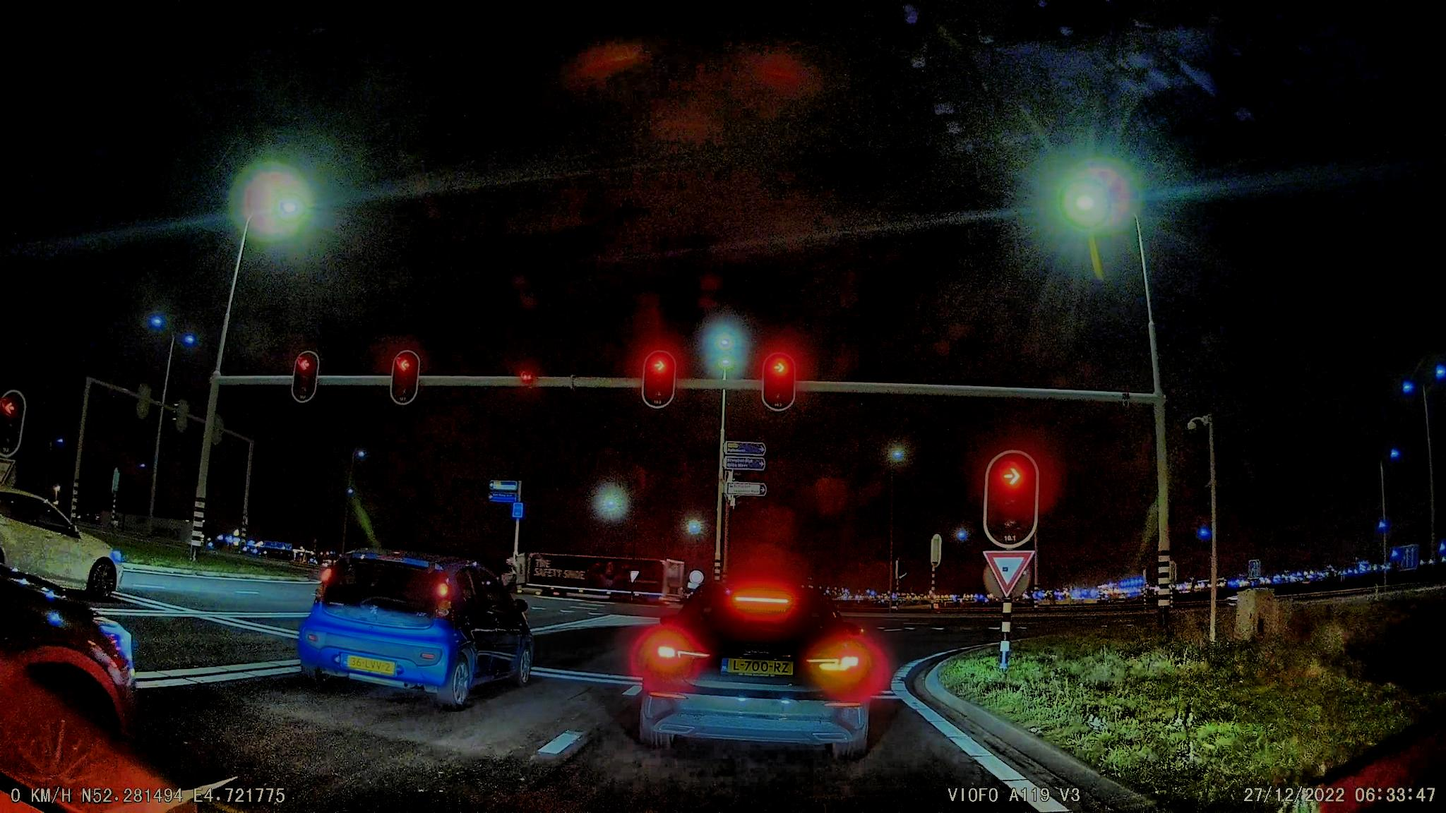Roads: (120, 581, 1161, 813)
